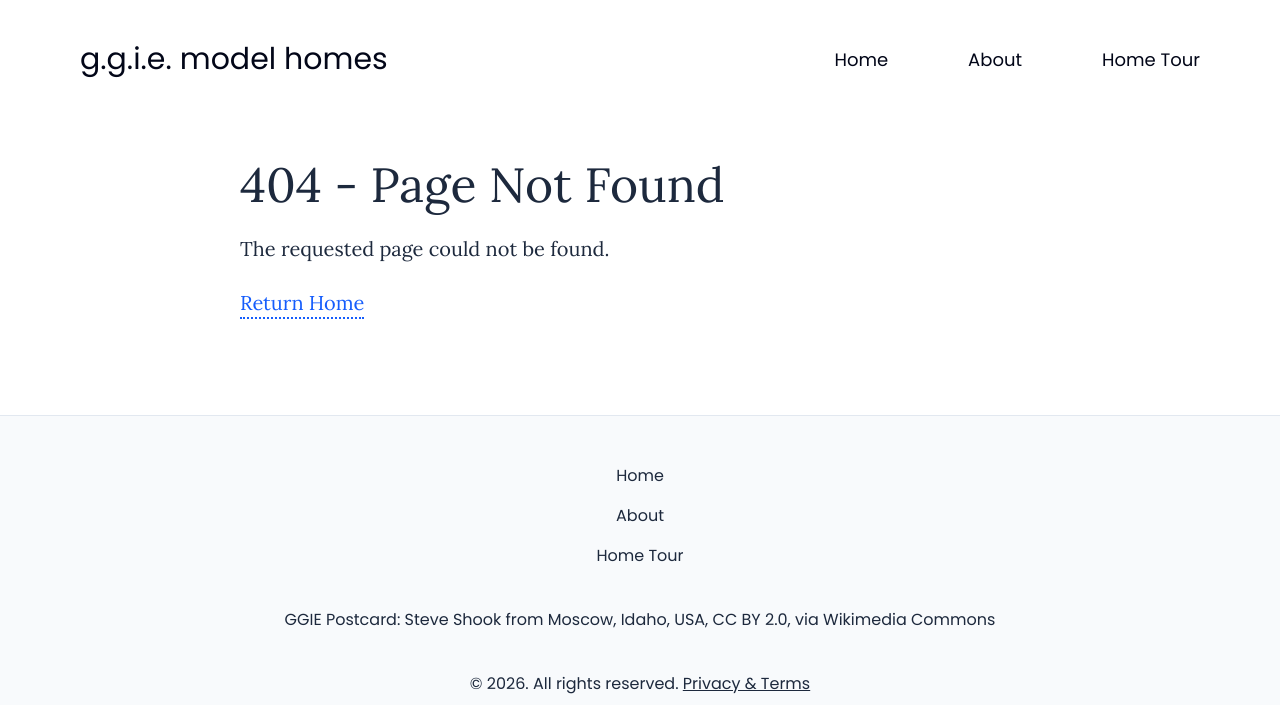
Root nav element › navigates from Not Found to Home using desktop nav
Click the link with test id "home-link".
click(861, 59)  # box [834, 46, 888, 72]
(page scrolled)
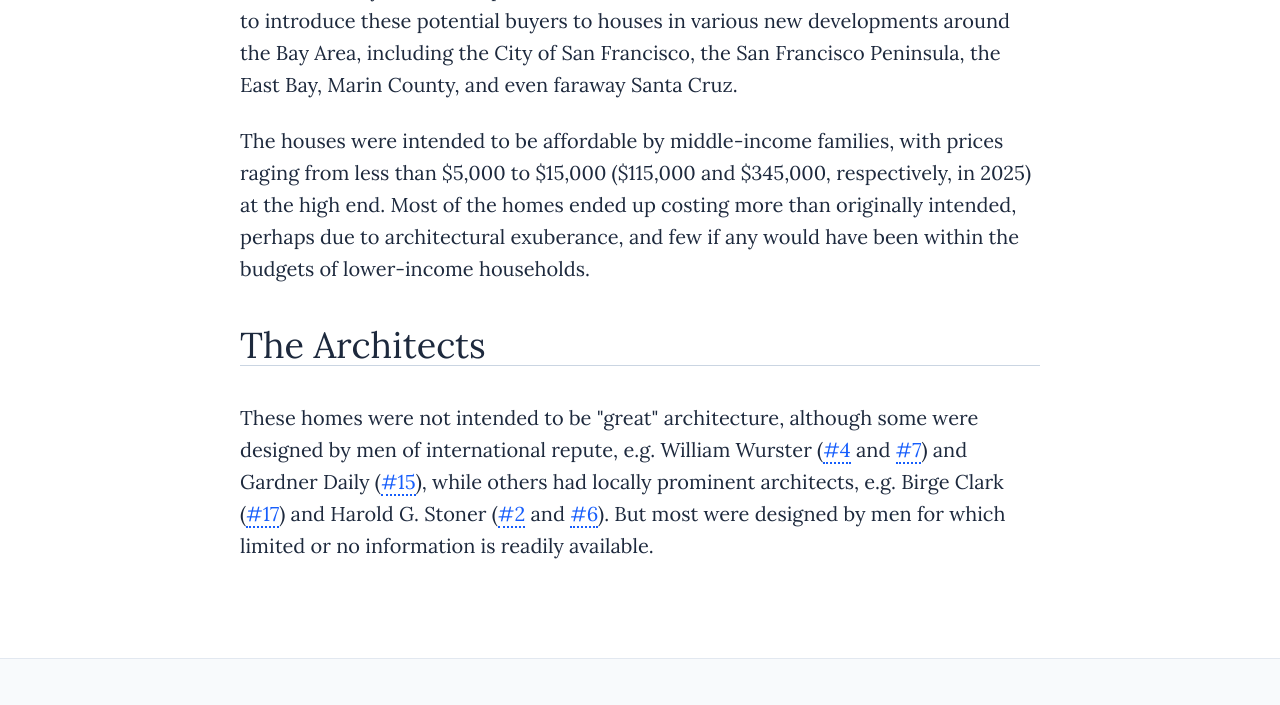
Check: the heading "The Architects" is shown, box [240, 322, 486, 368]
